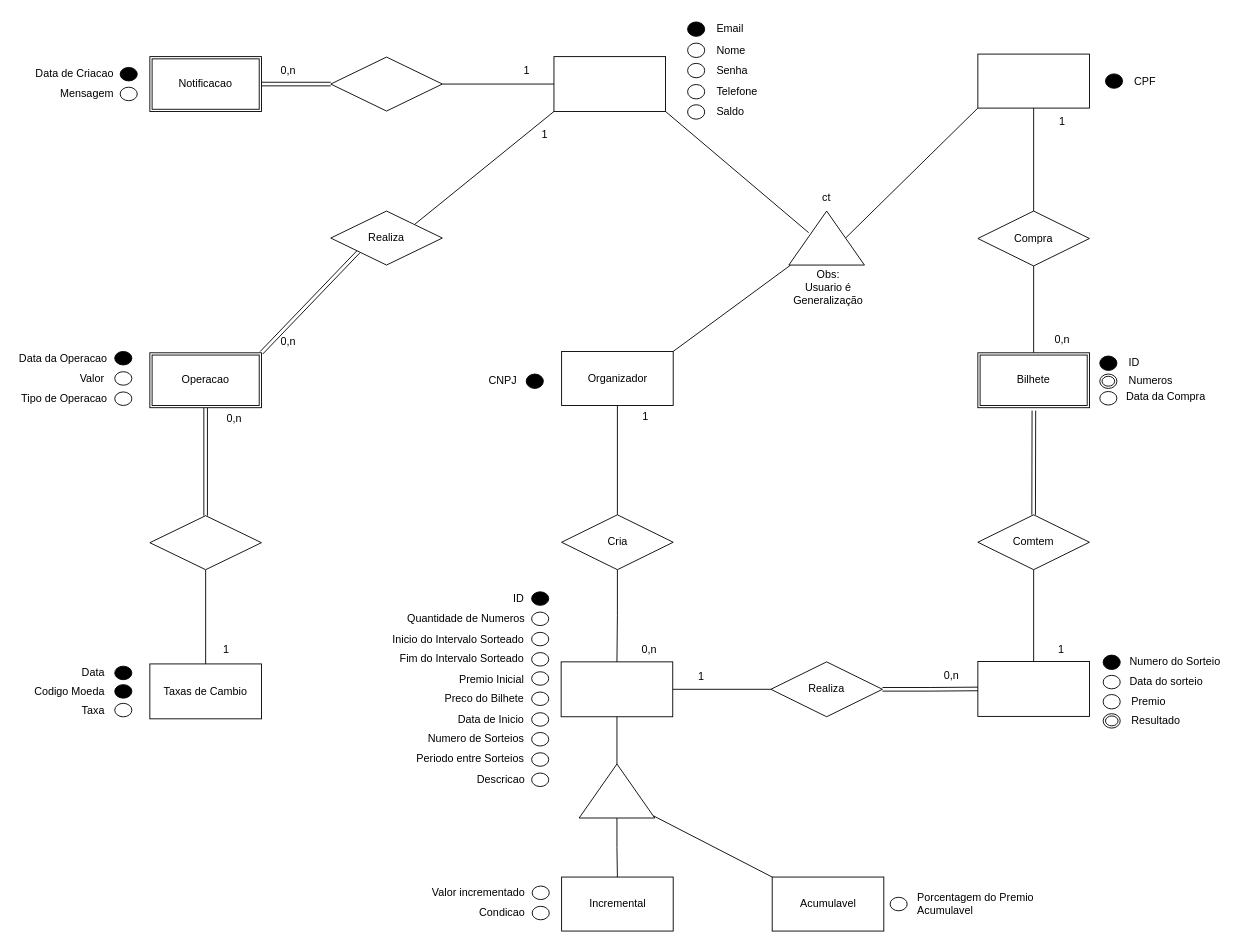
This 1246x948 diagram has some shape labels left out. Here are the shapes that lost their labels. From the top down, the centre of each, then its label:
At point (386, 83): "Recebe".
At point (609, 84): "Usuario".
At point (1033, 80): "Cliente".
At point (205, 542): "Opera".
At point (616, 689): "Modalidade Sorteio".
At point (1033, 688): "Sorteio".
At point (616, 790): "cp".
